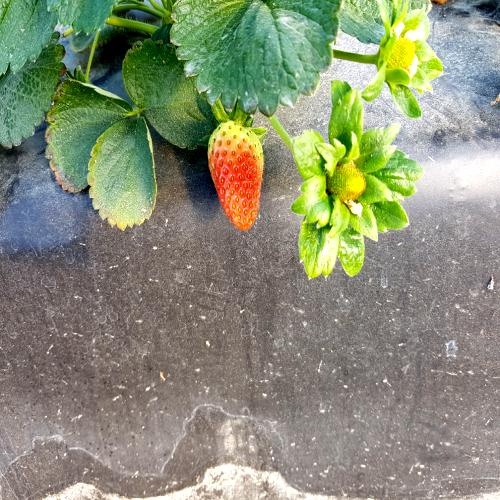partially-ripe: (203, 110, 265, 244)
